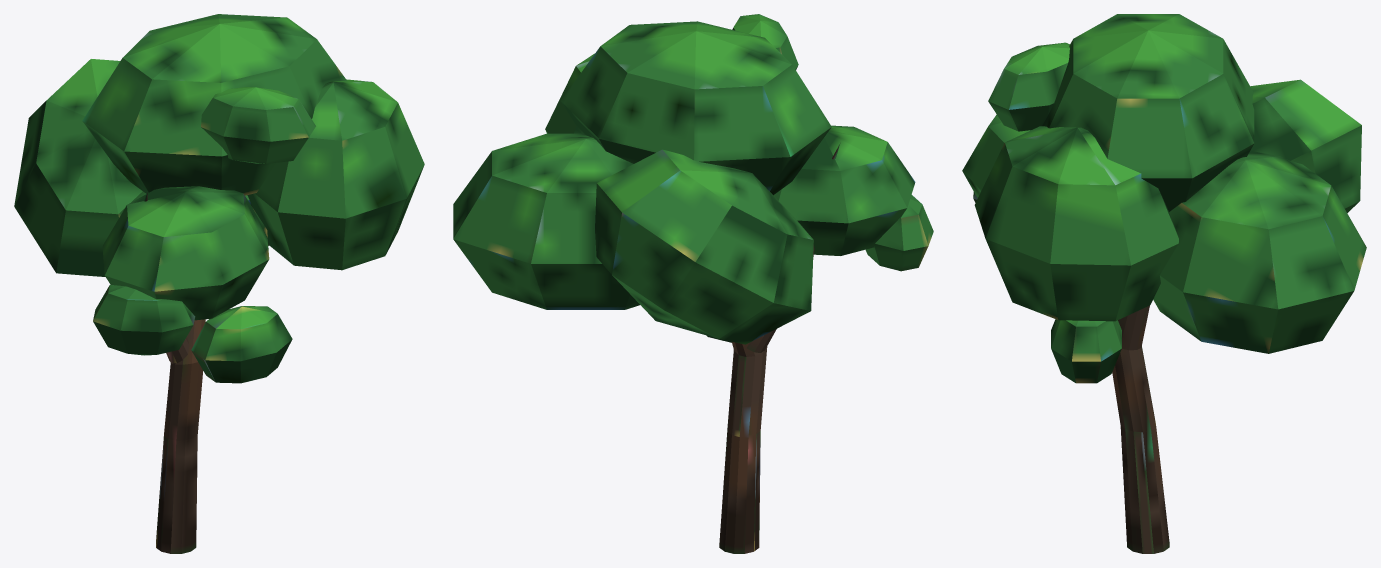
File: tree.obj
3 renders of one model, left to right at view 1: azimuth 30°, elevation 25°; view 2: azimuth 150°, elevation 25°; view 3: azimuth 270°, elevation 25°, orthographic. The views are drawn at different scales.
Parts seen in each view (by area): view 1: sphere, cylinder; view 2: sphere, cylinder; view 3: sphere, cylinder.
Part boxes in pixels (box(x1,y1,x2,y2)): sphere: box(14, 14, 424, 383); cylinder: box(144, 191, 268, 553); sphere: box(453, 14, 933, 344); cylinder: box(719, 143, 840, 553); sphere: box(962, 14, 1366, 383); cylinder: box(1112, 305, 1169, 553).
Size of the model in its own units: 0.7845 by 1.05 by 0.7151.
Materials: 1 (1 with a texture image).
